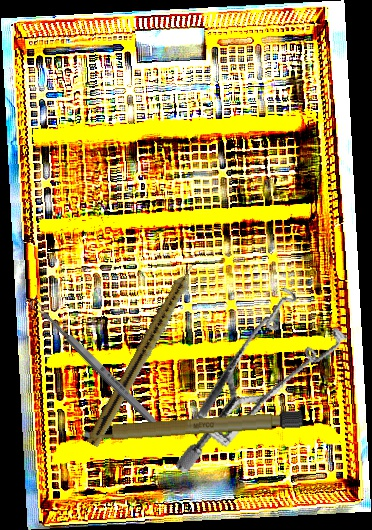Handpiece: (85, 255, 205, 450)
Scalpel Handle: (79, 409, 305, 443)
Speculum: (137, 274, 372, 474)
Surgical Spoon: (28, 296, 159, 428)
